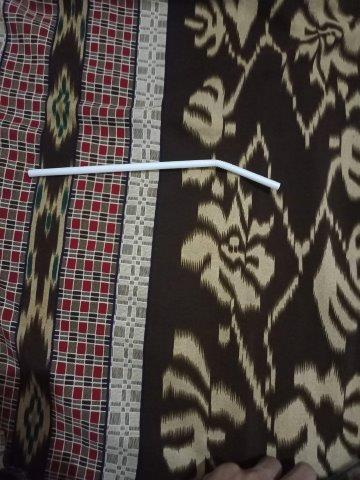sedotan: (28, 159, 280, 189)
